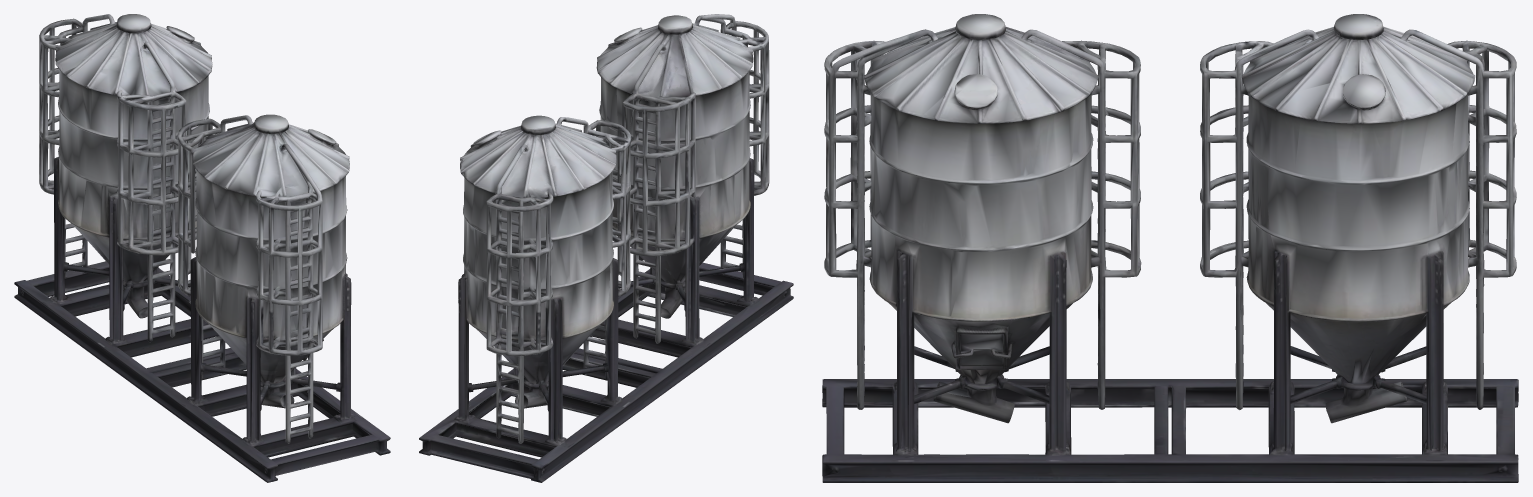
The model's file is load5-hoppers.glb.
The picture shows the model from 3 angles, left to right: view 1: azimuth 30°, elevation 25°; view 2: azimuth 150°, elevation 25°; view 3: azimuth 270°, elevation 25°; orthographic projection. The views are drawn at different scales.
Visible parts, largest first — view 1: body; view 2: body; view 3: body.
Part boxes in pixels (box(x1,y1,x2,y2)): body: box(14, 14, 390, 482); body: box(419, 14, 793, 482); body: box(822, 14, 1518, 482).
Size of the model in its own units: 2.13 by 4.64 by 6.99.
1 material, 1 textured.
